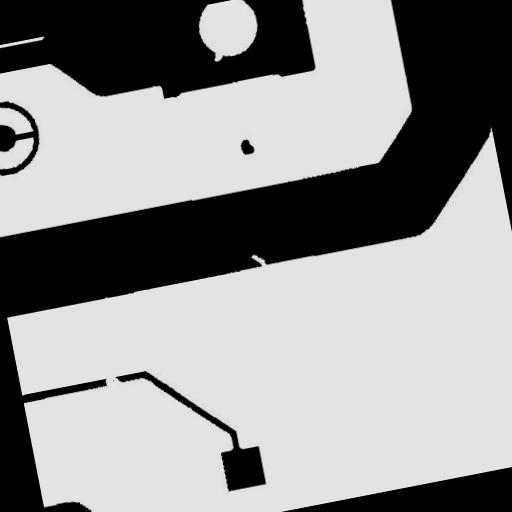copper: (231, 130, 263, 164)
mousebite: (242, 244, 278, 280), (204, 42, 232, 70)
open: (93, 364, 130, 398)
short: (0, 122, 45, 153)
